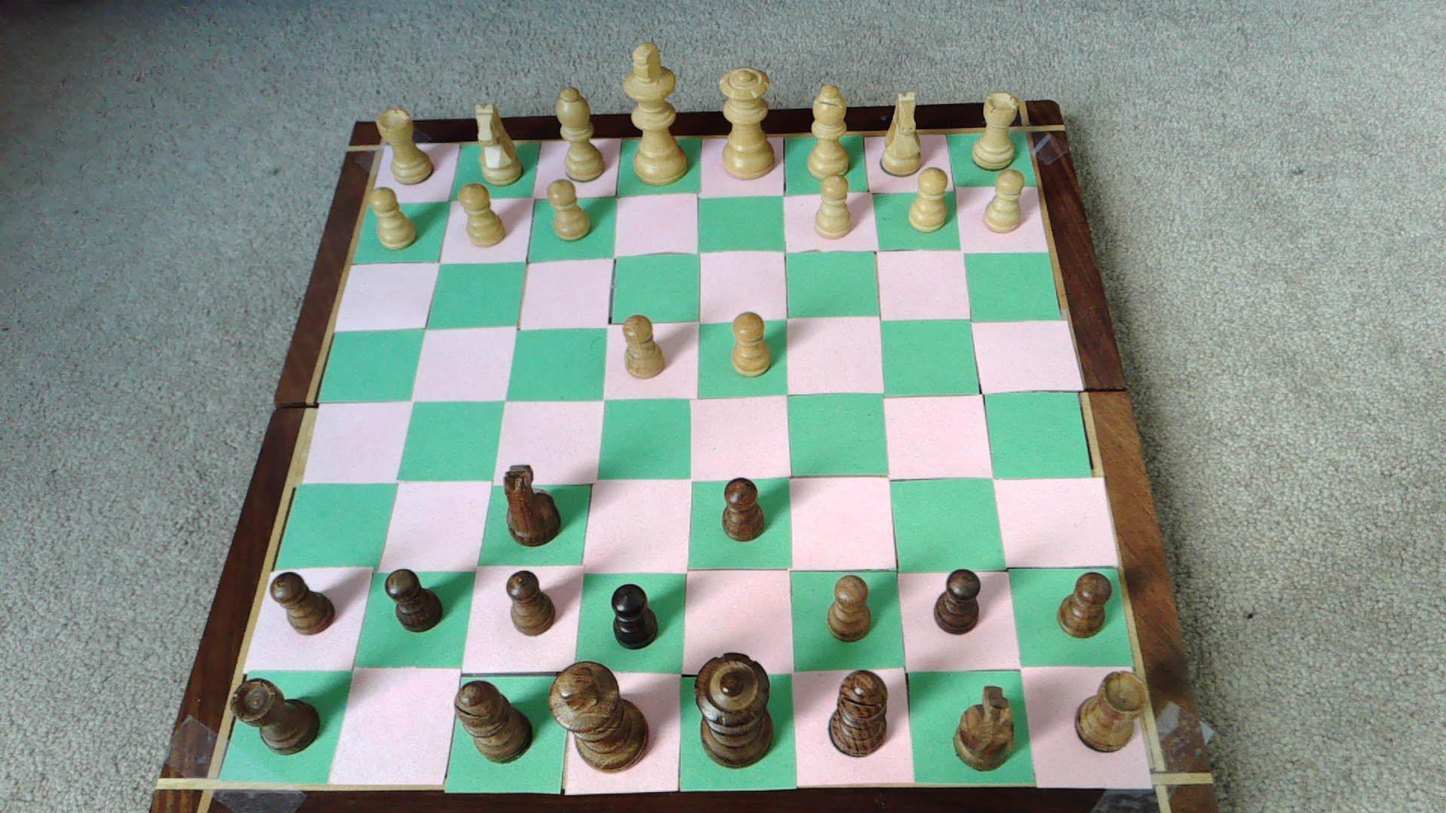dark_piece: (549, 661, 648, 770), (695, 653, 772, 766), (232, 679, 319, 753), (456, 680, 532, 762), (1075, 672, 1148, 752), (953, 685, 1013, 770), (829, 671, 887, 756), (504, 464, 560, 547), (271, 572, 335, 634), (385, 569, 442, 631), (1058, 572, 1110, 638), (506, 571, 555, 635), (612, 583, 659, 649), (934, 569, 980, 633), (827, 575, 871, 640), (722, 478, 765, 540)
white_piece: (621, 42, 690, 186), (720, 69, 777, 179), (554, 86, 606, 182), (377, 107, 435, 185), (807, 85, 851, 180), (473, 102, 523, 184), (972, 92, 1018, 170), (880, 93, 923, 176), (459, 184, 507, 247), (370, 187, 417, 250), (984, 169, 1026, 233), (908, 167, 949, 232), (623, 315, 665, 378), (548, 180, 591, 241), (731, 312, 771, 376), (815, 177, 852, 238)
